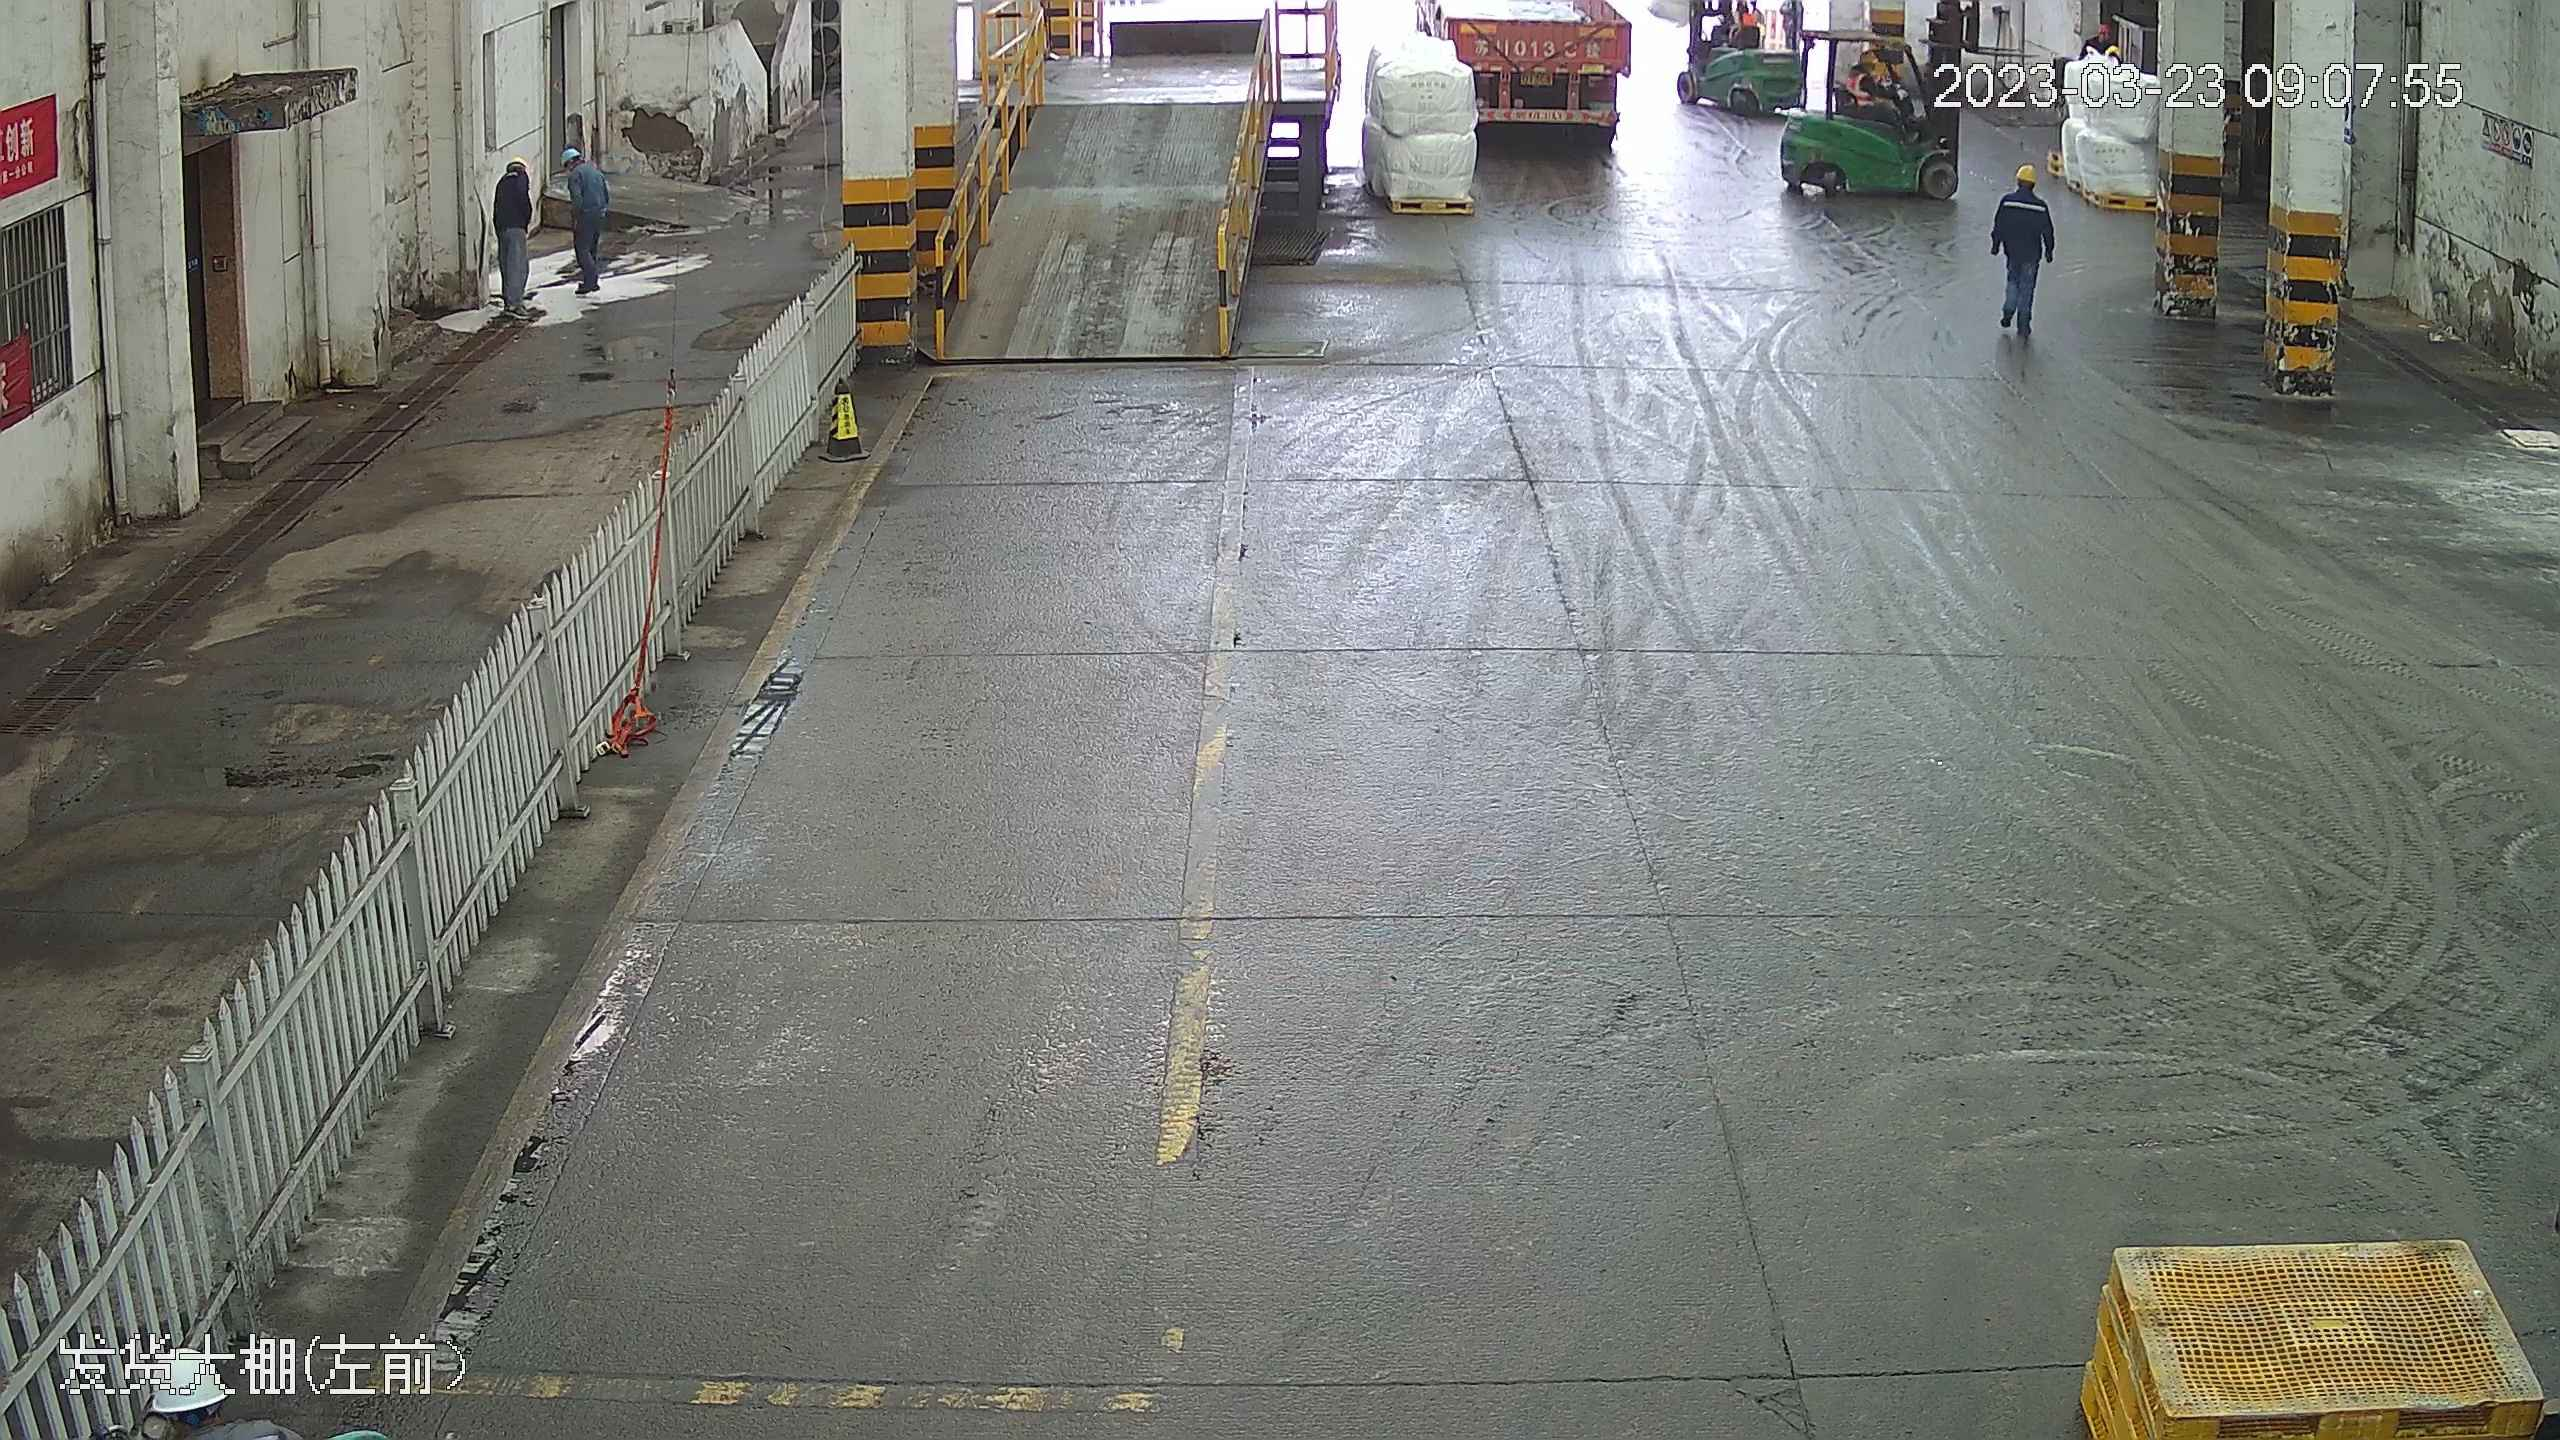head: (1998, 162, 2053, 217), (563, 146, 604, 194), (1861, 28, 1902, 70), (495, 146, 533, 194)
helmet: (567, 145, 595, 168), (2014, 161, 2040, 182), (504, 146, 530, 167)
people: (1990, 162, 2060, 352), (489, 144, 539, 317), (560, 142, 612, 300), (1854, 32, 1922, 122)
truck: (1427, 1, 1650, 140)
